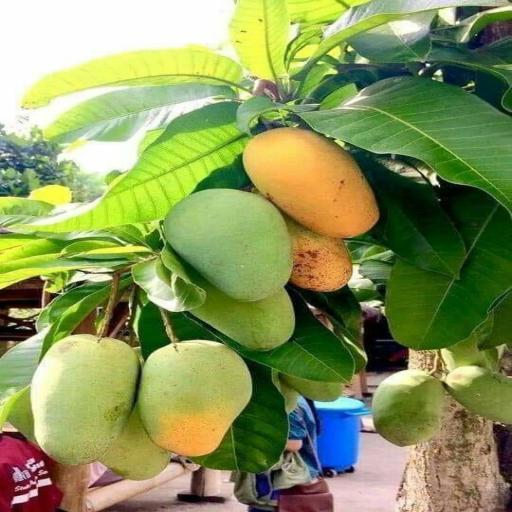mango: (244, 128, 378, 237), (164, 189, 292, 300), (31, 335, 139, 465), (138, 341, 252, 456)
